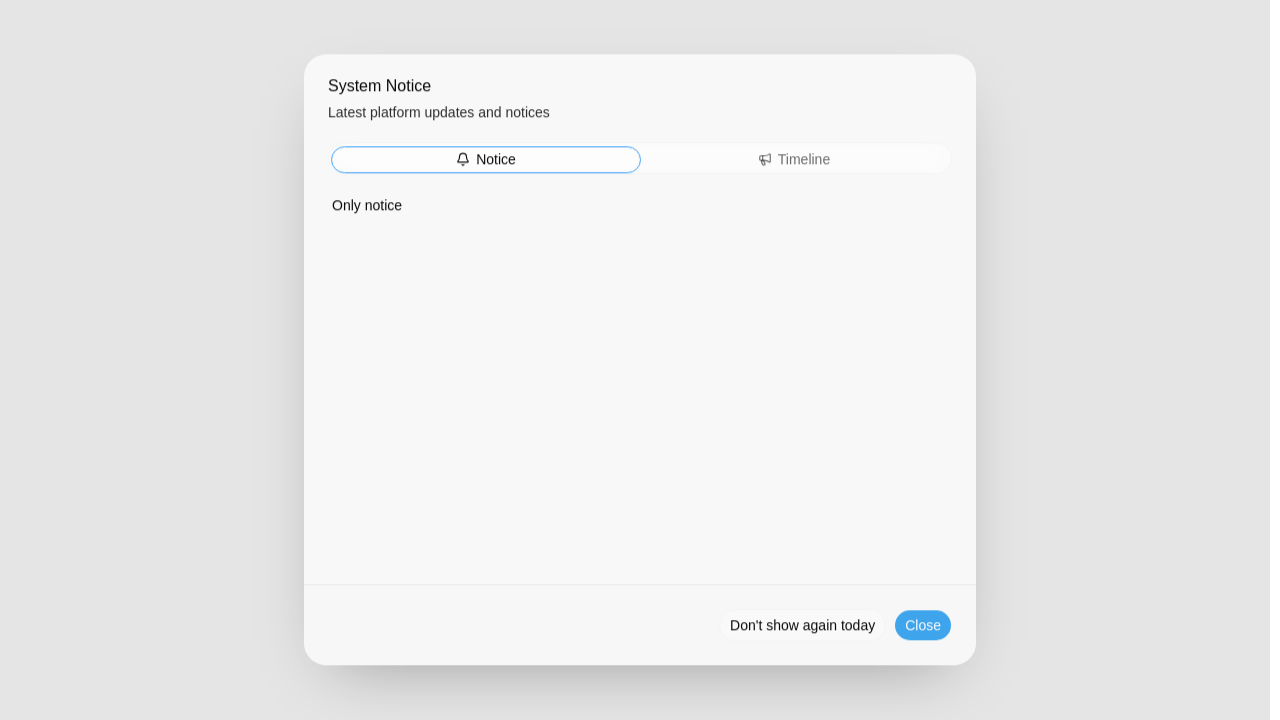
Scenario: 无时间线或关闭时间线时默认通知，两个标签仍可切换
Expected: the text "Only notice" is shown, [332, 197, 402, 213]
Click the tab "Timeline" at (794, 159), box [640, 147, 948, 172]
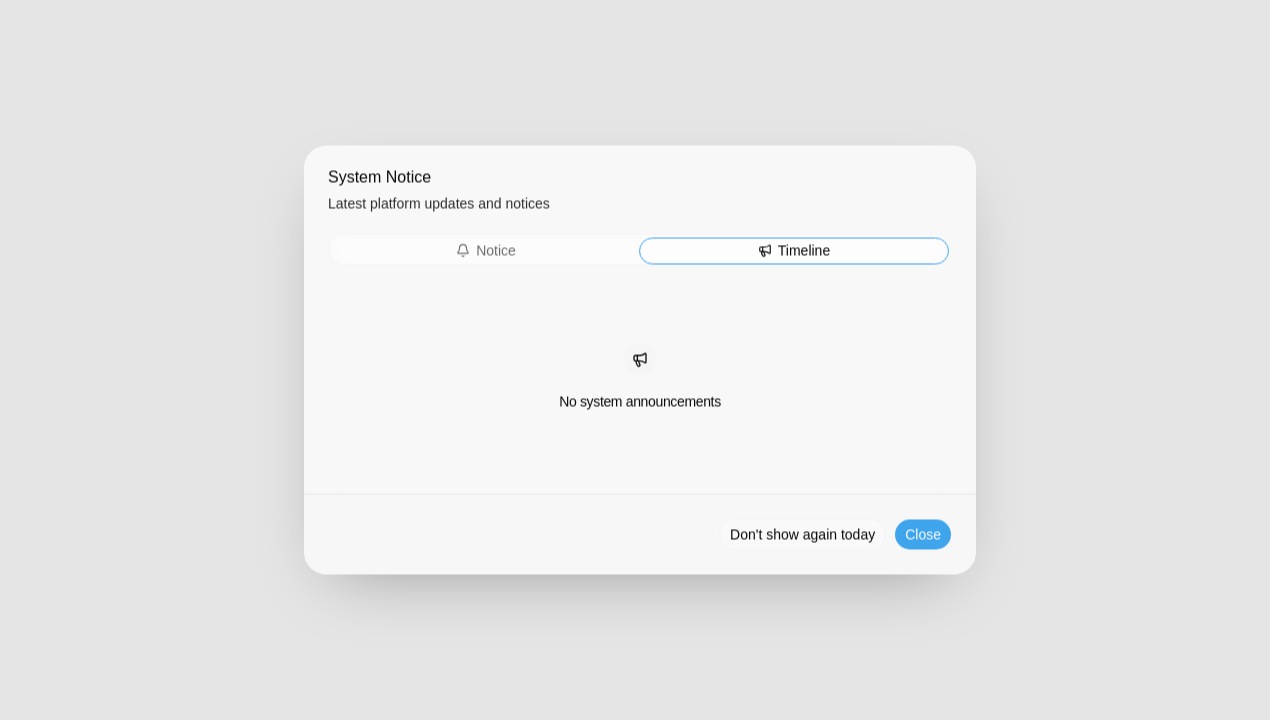
Now the text "No system announcements" is shown, box [559, 392, 721, 412]
